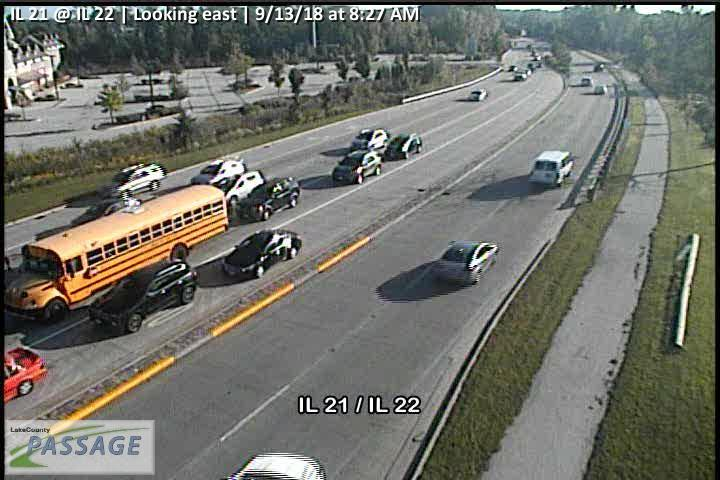Bus: (1, 183, 228, 328)
SUV: (527, 149, 575, 185)
Sedan: (87, 258, 198, 335), (220, 229, 303, 279), (430, 240, 499, 286), (235, 177, 301, 222), (106, 163, 168, 202), (190, 157, 247, 190), (331, 150, 383, 185), (214, 171, 265, 206), (384, 132, 423, 161), (349, 127, 387, 151), (469, 87, 488, 102), (592, 84, 607, 95), (580, 76, 593, 87)
